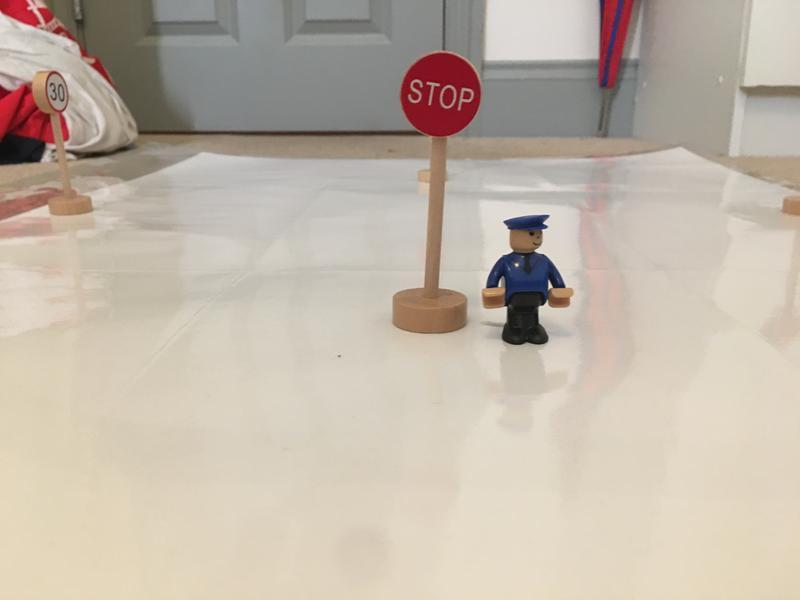Traffic_Sign_30: (45, 69, 69, 112)
Traffic_Sign_Stop: (400, 49, 482, 137)
person: (478, 212, 577, 351)
